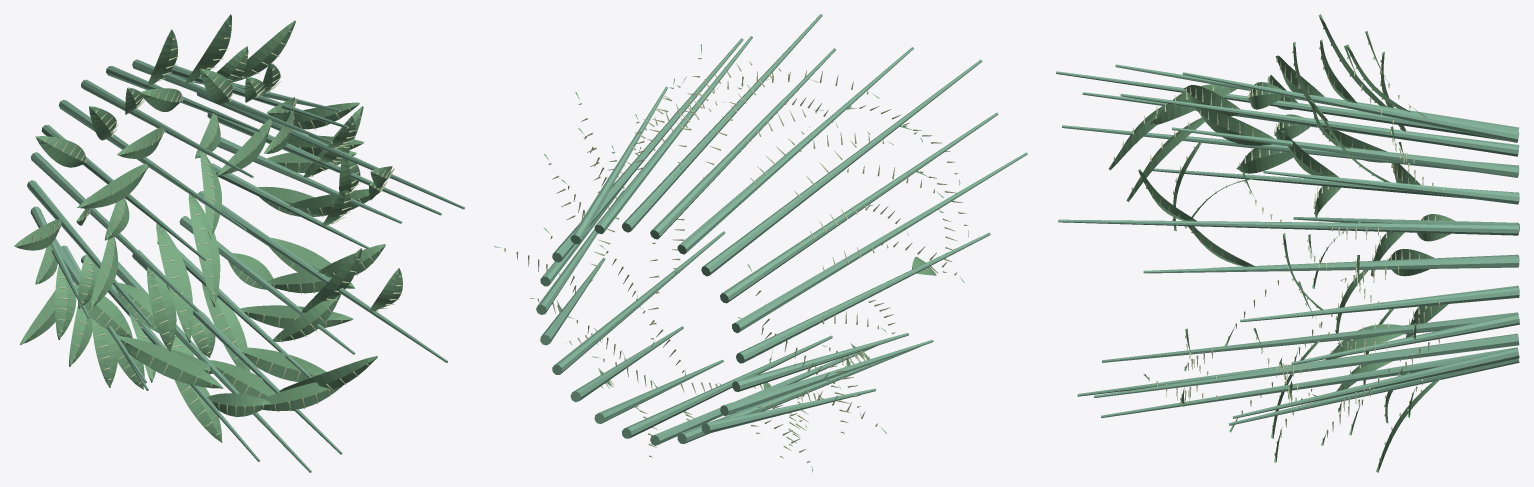
Rendered from Aquarion_Tidal_Fern.glb.
3 renders of one model, left to right at view 1: azimuth 30°, elevation 25°; view 2: azimuth 150°, elevation 25°; view 3: azimuth 270°, elevation 25°, orthographic. The views are drawn at different scales.
Parts seen in each view (by area): view 1: Aquarion_Tidal_Fern_blade13_2, Aquarion_Tidal_Fern_blade9_2, Aquarion_Tidal_Fern_stem20, Aquarion_Tidal_Fern_blade8_2, Aquarion_Tidal_Fern_blade17_1, Aquarion_Tidal_Fern_blade10_2, Aquarion_Tidal_Fern_stem10, Aquarion_Tidal_Fern_stem2, Aquarion_Tidal_Fern_blade18_0, Aquarion_Tidal_Fern_stem7, Aquarion_Tidal_Fern_blade16_2, Aquarion_Tidal_Fern_stem8 (+59 smaller); view 2: Aquarion_Tidal_Fern_stem8, Aquarion_Tidal_Fern_stem9, Aquarion_Tidal_Fern_stem10, Aquarion_Tidal_Fern_stem7, Aquarion_Tidal_Fern_stem5, Aquarion_Tidal_Fern_stem11, Aquarion_Tidal_Fern_stem6, Aquarion_Tidal_Fern_stem4, Aquarion_Tidal_Fern_stem2, Aquarion_Tidal_Fern_stem17, Aquarion_Tidal_Fern_stem13, Aquarion_Tidal_Fern_stem20 (+10 smaller); view 3: Aquarion_Tidal_Fern_stem2, Aquarion_Tidal_Fern_stem20, Aquarion_Tidal_Fern_stem5, Aquarion_Tidal_Fern_stem1, Aquarion_Tidal_Fern_stem15, Aquarion_Tidal_Fern_stem4, Aquarion_Tidal_Fern_stem17, Aquarion_Tidal_Fern_stem6, Aquarion_Tidal_Fern_stem19, Aquarion_Tidal_Fern_stem8, Aquarion_Tidal_Fern_stem0, Aquarion_Tidal_Fern_stem3 (+25 smaller).
Part boxes in pixels (x1,y1,x2,y2): Aquarion_Tidal_Fern_blade13_2: (118, 336, 223, 388); Aquarion_Tidal_Fern_blade9_2: (156, 223, 192, 342); Aquarion_Tidal_Fern_stem20: (198, 191, 447, 362); Aquarion_Tidal_Fern_blade8_2: (188, 194, 220, 307); Aquarion_Tidal_Fern_blade17_1: (237, 347, 326, 382); Aquarion_Tidal_Fern_blade10_2: (147, 267, 176, 351); Aquarion_Tidal_Fern_stem10: (31, 152, 199, 312); Aquarion_Tidal_Fern_stem2: (196, 93, 464, 209); Aquarion_Tidal_Fern_blade18_0: (202, 283, 250, 371); Aquarion_Tidal_Fern_stem7: (81, 79, 253, 177); Aquarion_Tidal_Fern_blade16_2: (262, 382, 343, 411); Aquarion_Tidal_Fern_stem8: (58, 99, 246, 230); Aquarion_Tidal_Fern_stem8: (701, 59, 982, 276); Aquarion_Tidal_Fern_stem9: (720, 112, 998, 303); Aquarion_Tidal_Fern_stem10: (732, 152, 1027, 333); Aquarion_Tidal_Fern_stem7: (677, 47, 913, 254); Aquarion_Tidal_Fern_stem5: (622, 14, 822, 232); Aquarion_Tidal_Fern_stem11: (736, 232, 990, 363); Aquarion_Tidal_Fern_stem6: (650, 48, 835, 239); Aquarion_Tidal_Fern_stem4: (594, 36, 752, 233); Aquarion_Tidal_Fern_stem2: (552, 38, 743, 262); Aquarion_Tidal_Fern_stem17: (622, 335, 832, 438); Aquarion_Tidal_Fern_stem13: (720, 339, 933, 415); Aquarion_Tidal_Fern_stem20: (552, 231, 725, 374); Aquarion_Tidal_Fern_stem2: (1058, 219, 1518, 235); Aquarion_Tidal_Fern_stem20: (1094, 334, 1519, 397); Aquarion_Tidal_Fern_stem5: (1120, 93, 1519, 156); Aquarion_Tidal_Fern_stem1: (1143, 256, 1519, 273); Aquarion_Tidal_Fern_stem15: (1102, 312, 1518, 362); Aquarion_Tidal_Fern_stem4: (1172, 127, 1519, 177); Aquarion_Tidal_Fern_stem17: (1101, 347, 1518, 417); Aquarion_Tidal_Fern_stem6: (1182, 72, 1519, 142); Aquarion_Tidal_Fern_stem19: (1232, 348, 1519, 418); Aquarion_Tidal_Fern_stem8: (1056, 71, 1505, 140); Aquarion_Tidal_Fern_stem0: (1240, 287, 1519, 322); Aquarion_Tidal_Fern_stem3: (1263, 170, 1519, 204).
Bounding box in the file's own units: 1.92 × 2.05 × 2.07.
